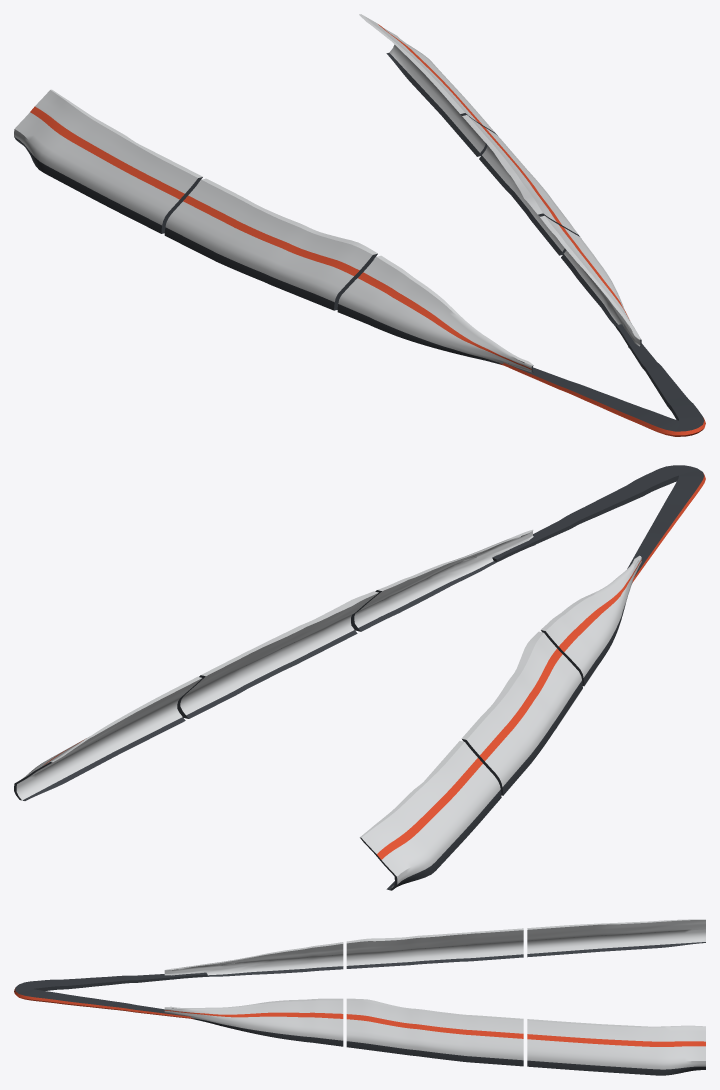
File: vortex_armor_guard.fbx
The picture shows the model from 3 angles, top to bottom: view 1: azimuth 30°, elevation 25°; view 2: azimuth 150°, elevation 25°; view 3: azimuth 270°, elevation 25°; orthographic projection. The views are drawn at different scales.
Visible parts, largest first — view 1: Armor_Guard; view 2: Armor_Guard; view 3: Armor_Guard.
Boxes of the visible parts, x1,y1,x2,y2 form: Armor_Guard: [14, 14, 705, 436]; Armor_Guard: [14, 465, 705, 890]; Armor_Guard: [14, 919, 705, 1075].
Size of the model in its own units: 183 by 23.37 by 394.
